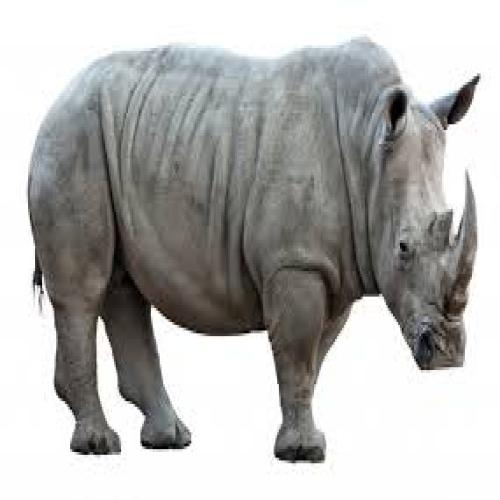rhino-endangered: (24, 37, 483, 464)
